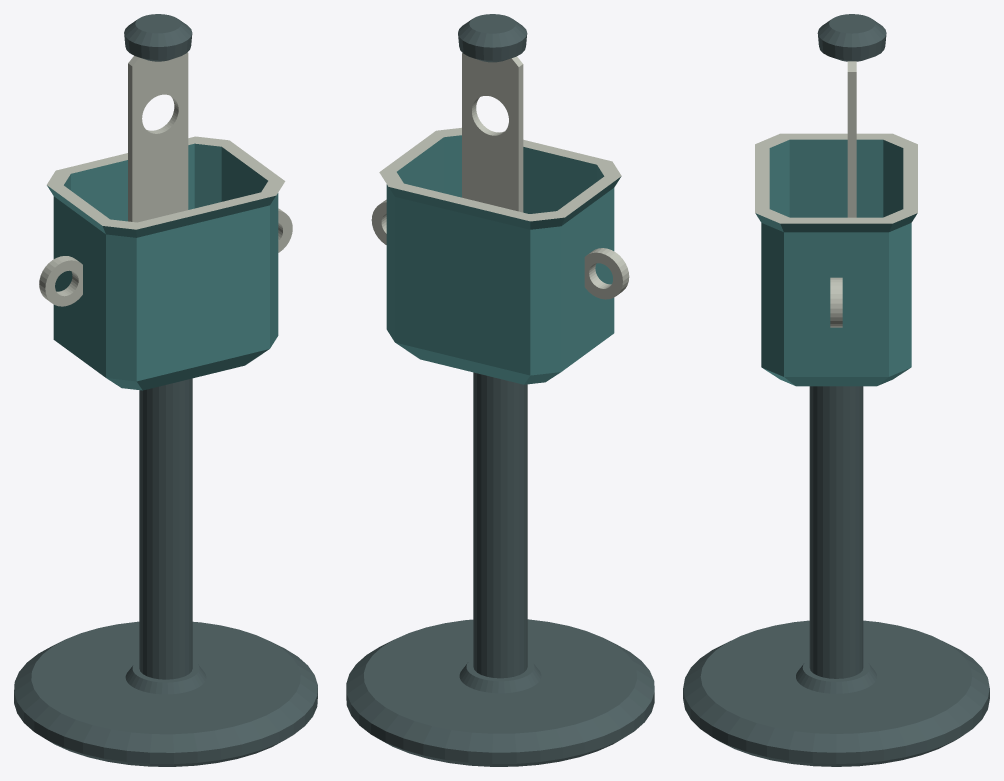
3 views of the same model, side by side, from view 1: azimuth 30°, elevation 25°; view 2: azimuth 150°, elevation 25°; view 3: azimuth 270°, elevation 25° (orthographic).
Visible parts, largest first — view 1: WholeBulgedRectangularOpenTank, WholeBroadSteppedPedestalFoot, WholeTallCappedPost, WholeRaisedEyeAndLongFlatPlunger, WholeBroadFacetedPullKnob, WholeLeftOpenSideEye; view 2: WholeBulgedRectangularOpenTank, WholeBroadSteppedPedestalFoot, WholeTallCappedPost, WholeRaisedEyeAndLongFlatPlunger, WholeBroadFacetedPullKnob, WholeLeftOpenSideEye; view 3: WholeBulgedRectangularOpenTank, WholeBroadSteppedPedestalFoot, WholeTallCappedPost, WholeBroadFacetedPullKnob, WholeRaisedEyeAndLongFlatPlunger, WholeRightOpenSideEye.
Boxes of the visible parts, bbox=[...] form: WholeBulgedRectangularOpenTank: bbox=[47, 136, 285, 390]; WholeBroadSteppedPedestalFoot: bbox=[14, 621, 317, 766]; WholeTallCappedPost: bbox=[139, 378, 192, 679]; WholeRaisedEyeAndLongFlatPlunger: bbox=[128, 52, 188, 222]; WholeBroadFacetedPullKnob: bbox=[124, 14, 192, 61]; WholeLeftOpenSideEye: bbox=[39, 256, 82, 306]; WholeBulgedRectangularOpenTank: bbox=[379, 127, 621, 384]; WholeBroadSteppedPedestalFoot: bbox=[346, 619, 654, 766]; WholeTallCappedPost: bbox=[473, 372, 527, 678]; WholeRaisedEyeAndLongFlatPlunger: bbox=[462, 53, 523, 212]; WholeBroadFacetedPullKnob: bbox=[458, 14, 527, 62]; WholeLeftOpenSideEye: bbox=[584, 248, 629, 299]; WholeBulgedRectangularOpenTank: bbox=[755, 133, 917, 386]; WholeBroadSteppedPedestalFoot: bbox=[683, 620, 989, 766]; WholeTallCappedPost: bbox=[809, 386, 863, 678]; WholeBroadFacetedPullKnob: bbox=[817, 14, 886, 61]; WholeRaisedEyeAndLongFlatPlunger: bbox=[847, 61, 856, 217]; WholeRightOpenSideEye: bbox=[830, 277, 842, 327].
Size of the model in its own units: 0.49 by 1.2 by 0.49.
